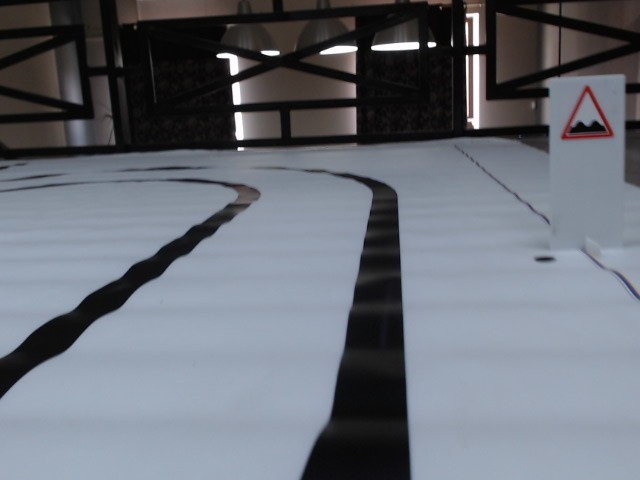Nerov: (562, 85, 615, 138)
